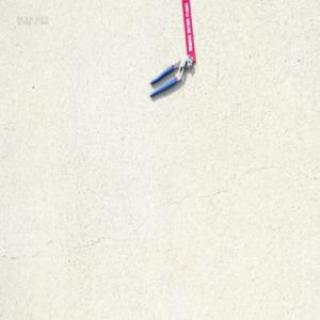LuggageTagtrack_idkeyframe: (182, 0, 196, 62)
Pliertrack_idkeyframe: (148, 50, 194, 96)
